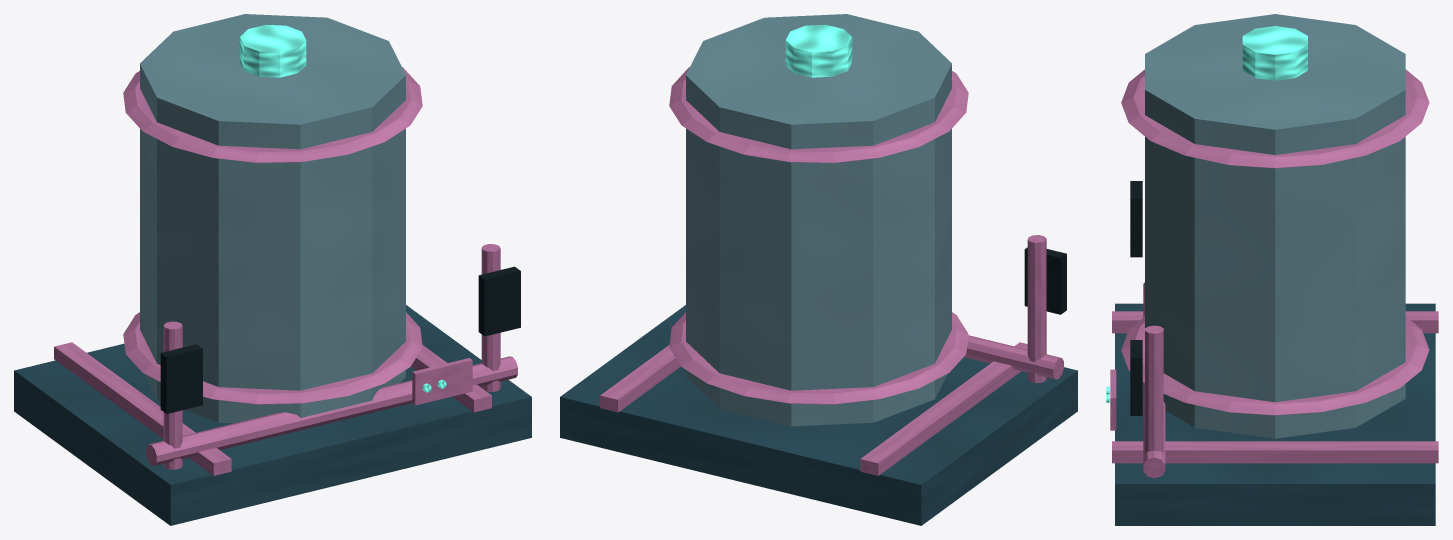
File: atlas100-s069-a04.glb
3 views of the same model, side by side, from view 1: azimuth 30°, elevation 25°; view 2: azimuth 150°, elevation 25°; view 3: azimuth 270°, elevation 25° (orthographic). The views are drawn at different scales.
Visible parts, largest first — view 1: atlas100-s069-a04:part-003, atlas100-s069-a04:part-000, atlas100-s069-a04:part-011, atlas100-s069-a04:part-005, atlas100-s069-a04:part-004, atlas100-s069-a04:part-001, atlas100-s069-a04:part-006, atlas100-s069-a04:part-010, atlas100-s069-a04:part-008, atlas100-s069-a04:part-012, atlas100-s069-a04:part-007, atlas100-s069-a04:part-009 (+1 smaller); view 2: atlas100-s069-a04:part-003, atlas100-s069-a04:part-000, atlas100-s069-a04:part-004, atlas100-s069-a04:part-005, atlas100-s069-a04:part-001, atlas100-s069-a04:part-006, atlas100-s069-a04:part-007, atlas100-s069-a04:part-002, atlas100-s069-a04:part-011, atlas100-s069-a04:part-008; view 3: atlas100-s069-a04:part-003, atlas100-s069-a04:part-000, atlas100-s069-a04:part-002, atlas100-s069-a04:part-005, atlas100-s069-a04:part-004, atlas100-s069-a04:part-006, atlas100-s069-a04:part-009, atlas100-s069-a04:part-001, atlas100-s069-a04:part-008, atlas100-s069-a04:part-010, atlas100-s069-a04:part-011, atlas100-s069-a04:part-012.
Boxes of the visible parts, x1,y1,x2,y2 form: atlas100-s069-a04:part-003: [140, 14, 405, 423]; atlas100-s069-a04:part-000: [14, 305, 531, 525]; atlas100-s069-a04:part-011: [146, 356, 517, 465]; atlas100-s069-a04:part-005: [123, 67, 422, 163]; atlas100-s069-a04:part-004: [123, 312, 422, 404]; atlas100-s069-a04:part-001: [54, 342, 231, 475]; atlas100-s069-a04:part-006: [239, 24, 306, 77]; atlas100-s069-a04:part-010: [478, 266, 520, 336]; atlas100-s069-a04:part-008: [160, 344, 202, 413]; atlas100-s069-a04:part-012: [412, 358, 472, 405]; atlas100-s069-a04:part-007: [163, 321, 182, 469]; atlas100-s069-a04:part-009: [481, 244, 500, 391]; atlas100-s069-a04:part-003: [686, 14, 951, 426]; atlas100-s069-a04:part-000: [560, 305, 1077, 525]; atlas100-s069-a04:part-004: [669, 312, 968, 404]; atlas100-s069-a04:part-005: [669, 67, 968, 163]; atlas100-s069-a04:part-001: [860, 342, 1027, 475]; atlas100-s069-a04:part-006: [785, 24, 852, 77]; atlas100-s069-a04:part-007: [1027, 235, 1046, 382]; atlas100-s069-a04:part-002: [600, 345, 680, 412]; atlas100-s069-a04:part-011: [964, 335, 1063, 379]; atlas100-s069-a04:part-008: [1024, 247, 1066, 314]; atlas100-s069-a04:part-003: [1145, 14, 1405, 438]; atlas100-s069-a04:part-000: [1115, 303, 1435, 525]; atlas100-s069-a04:part-002: [1112, 441, 1438, 463]; atlas100-s069-a04:part-005: [1121, 69, 1429, 168]; atlas100-s069-a04:part-004: [1121, 316, 1429, 415]; atlas100-s069-a04:part-006: [1242, 26, 1307, 80]; atlas100-s069-a04:part-009: [1145, 325, 1163, 475]; atlas100-s069-a04:part-001: [1112, 311, 1438, 333]; atlas100-s069-a04:part-008: [1130, 181, 1142, 257]; atlas100-s069-a04:part-010: [1130, 340, 1142, 415]; atlas100-s069-a04:part-011: [1143, 282, 1165, 478]; atlas100-s069-a04:part-012: [1110, 369, 1116, 430].
Bounding box in the file's own units: 2.4 × 2.45 × 1.87.
5 materials, 5 textured.
